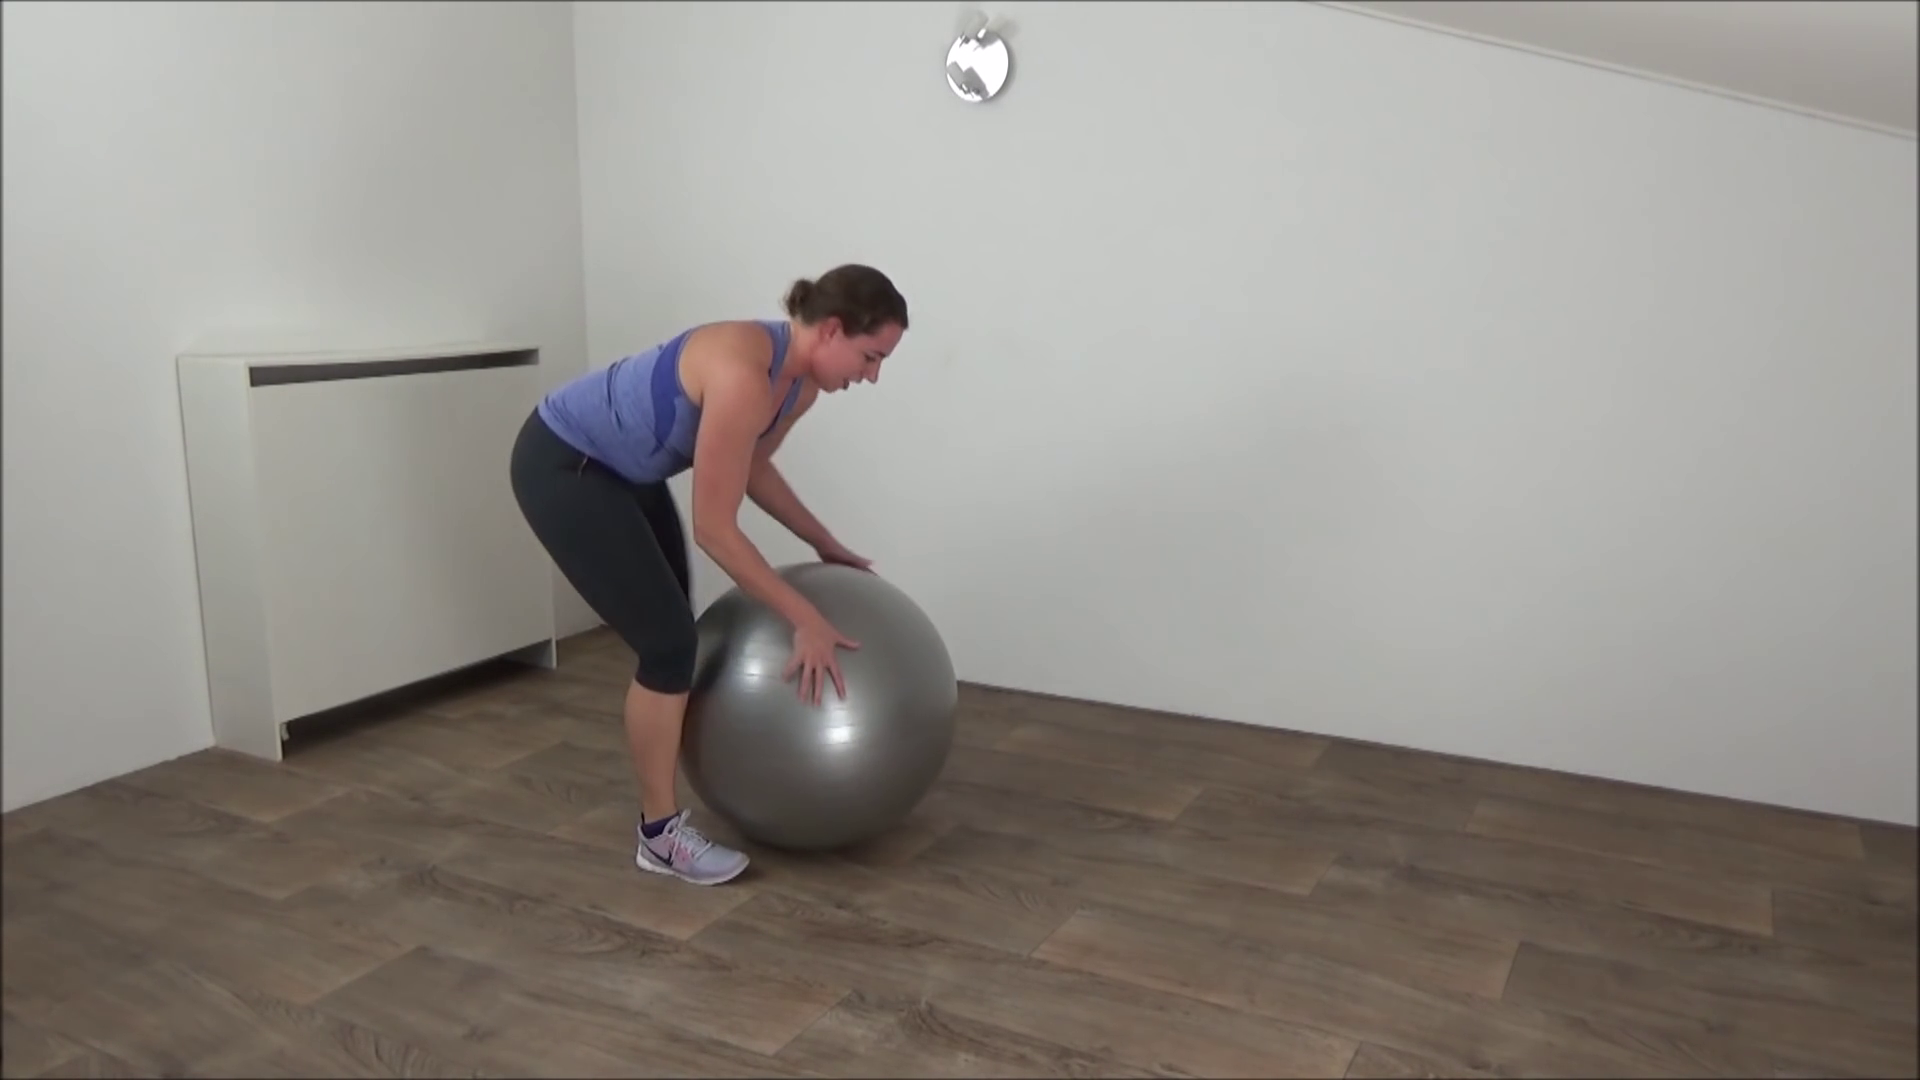yogaball: (644, 549, 968, 868)
